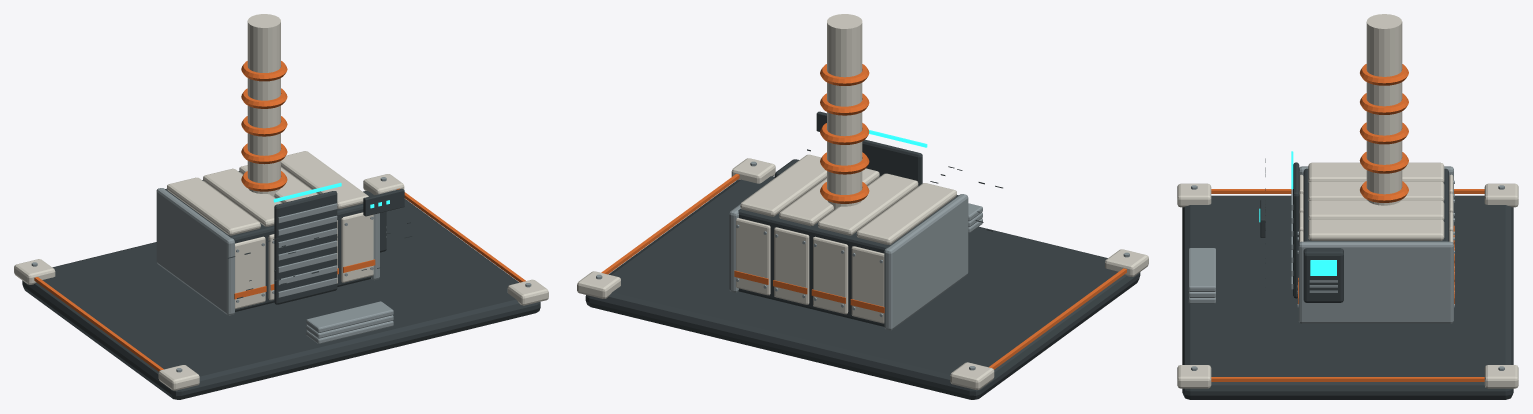
Rendered from SM_SurveyBeacon_Body.001.fbx.
3 views of the same model, side by side, from view 1: azimuth 30°, elevation 25°; view 2: azimuth 150°, elevation 25°; view 3: azimuth 270°, elevation 25° (orthographic). The views are drawn at different scales.
Visible parts, largest first — view 1: SM_SurveyBeacon_Body.001; view 2: SM_SurveyBeacon_Body.001; view 3: SM_SurveyBeacon_Body.001.
Boxes of the visible parts, left/top/right/bottom form: SM_SurveyBeacon_Body.001: left=14, top=14, right=548, bottom=399; SM_SurveyBeacon_Body.001: left=577, top=14, right=1148, bottom=399; SM_SurveyBeacon_Body.001: left=1177, top=14, right=1518, bottom=399.
Size of the model in its own units: 572 by 422 by 390.
